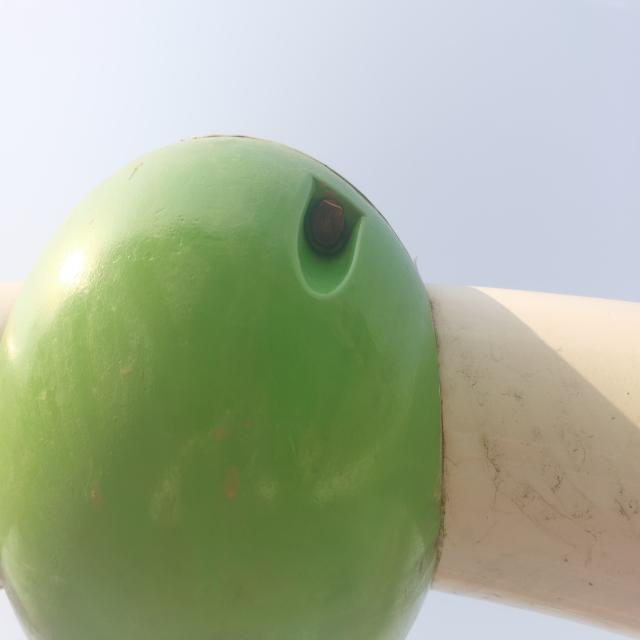bolt head: (307, 198, 347, 252)
